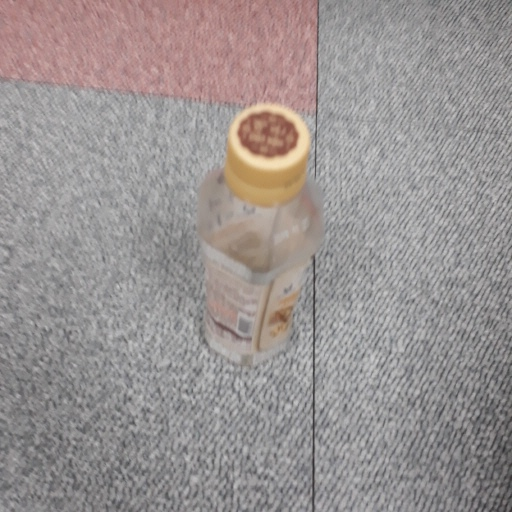Plastic_0: (191, 104, 323, 370)
